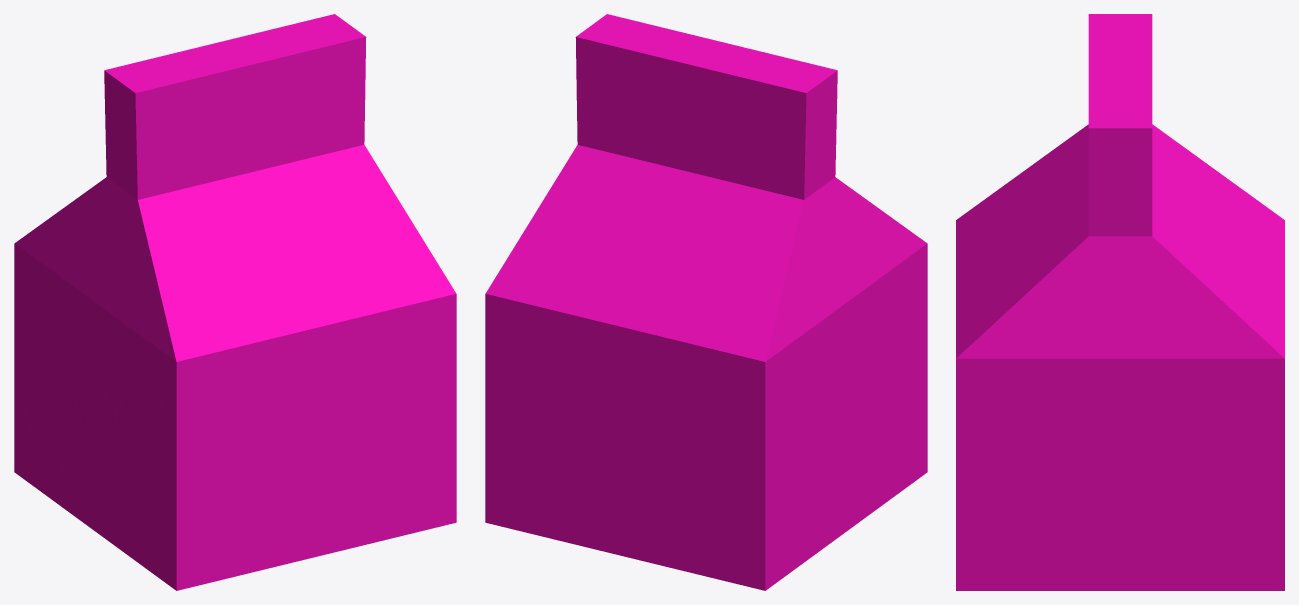
Rendered from study_drink_box_2_meshCollider.fbx.
The picture shows the model from 3 angles, left to right: view 1: azimuth 30°, elevation 25°; view 2: azimuth 150°, elevation 25°; view 3: azimuth 270°, elevation 25°; orthographic projection.
Parts seen in each view (by area): view 1: study_drink_box_2_meshCollider; view 2: study_drink_box_2_meshCollider; view 3: study_drink_box_2_meshCollider.
Boxes of the visible parts, x1,y1,x2,y2 form: study_drink_box_2_meshCollider: (14, 14, 456, 590); study_drink_box_2_meshCollider: (485, 14, 927, 590); study_drink_box_2_meshCollider: (956, 14, 1284, 590).
Size of the model in its own units: 7.36 by 11.15 by 7.38.
